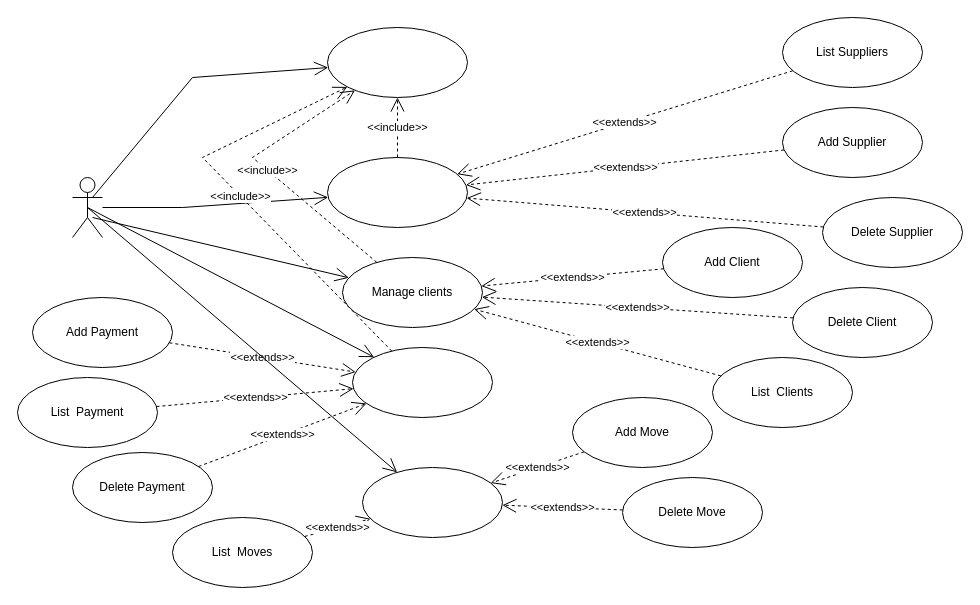
Some shapes in this 980 by 605 pixel diagram are drawn without their labels. Here are the shapes that lost their labels. From the top down, the centre of each, then its label:
pixel 397 62: login
pixel 87 207: User
pixel 397 192: manage suppliers
pixel 422 382: Manage Payments
pixel 432 502: Manage Moves
